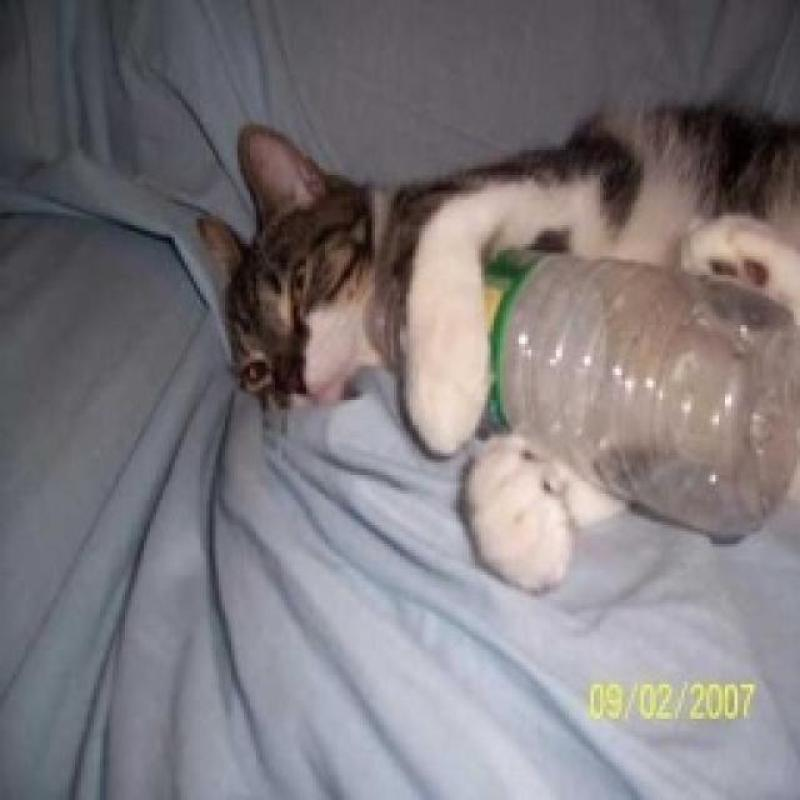botella: (482, 247, 798, 547)
